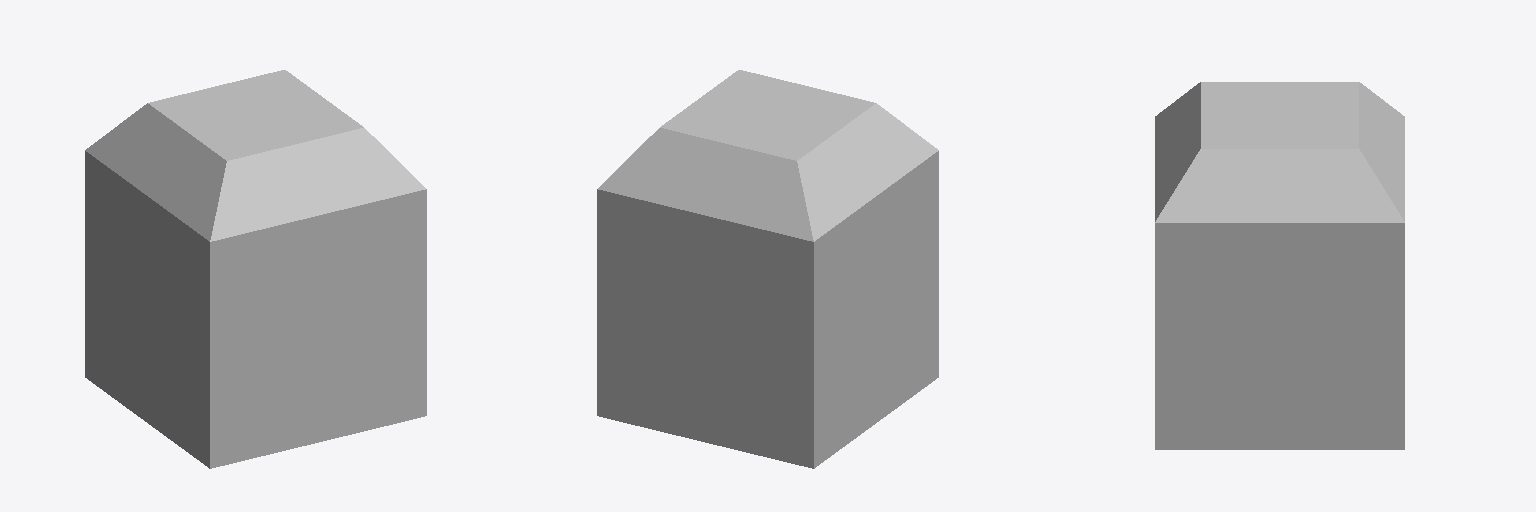
Rendered from TestCubeKeyframe1.obj.
3 views of the same model, side by side, from view 1: azimuth 30°, elevation 25°; view 2: azimuth 150°, elevation 25°; view 3: azimuth 270°, elevation 25° (orthographic).
Parts seen in each view (by area): view 1: Cube; view 2: Cube; view 3: Cube.
Part boxes in pixels (bbox=[...]): Cube: bbox=[85, 70, 426, 468]; Cube: bbox=[597, 70, 938, 468]; Cube: bbox=[1155, 82, 1404, 449].
Size of the model in its own units: 2 by 2.48 by 2.